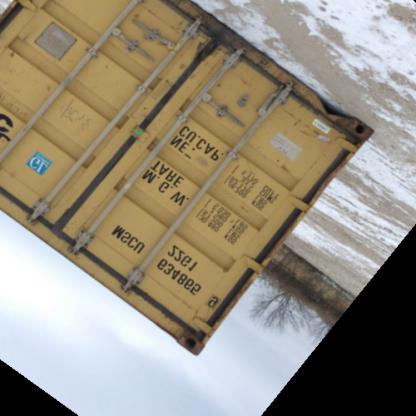Damage: (247, 47, 316, 121), (166, 25, 242, 80), (306, 116, 379, 160), (142, 330, 218, 366)
